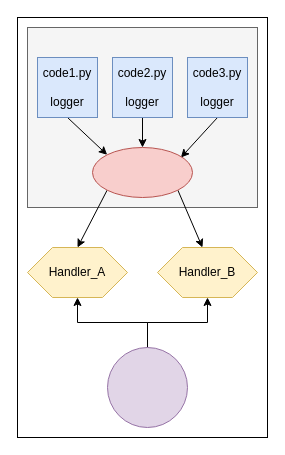
The diagram is 285 pixels wide and 455 high, and some of its shapes have lost their labels. The box of each missing label's shape, as (x1, y1, x2, y2) in pixels:
Formatter_1: (106, 346, 188, 428)
logRecord: (92, 146, 192, 198)
Process: (26, 26, 258, 208)
